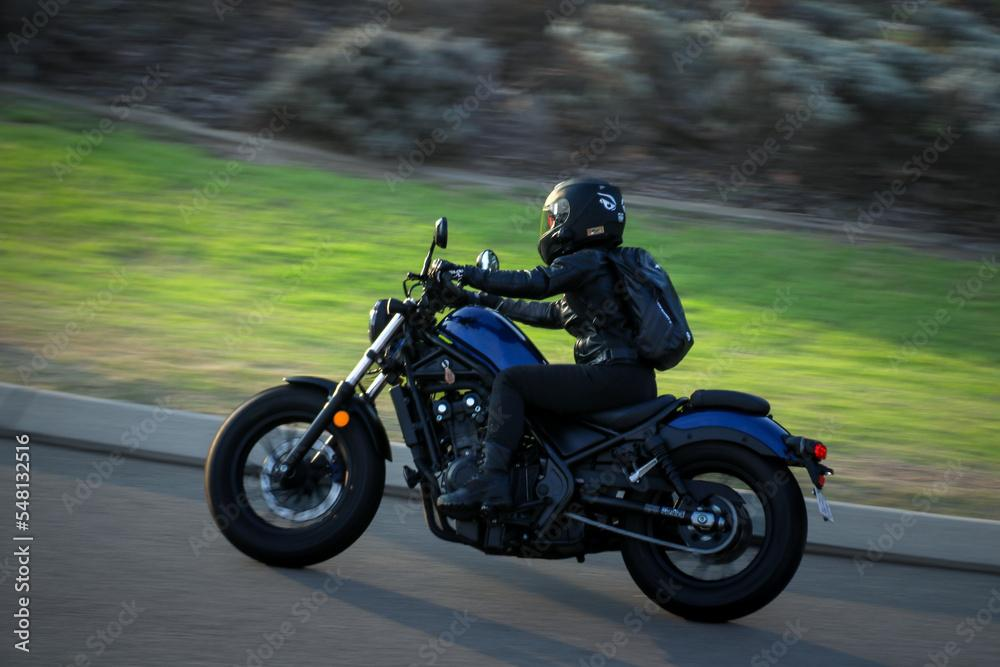helmet: (537, 177, 627, 267)
